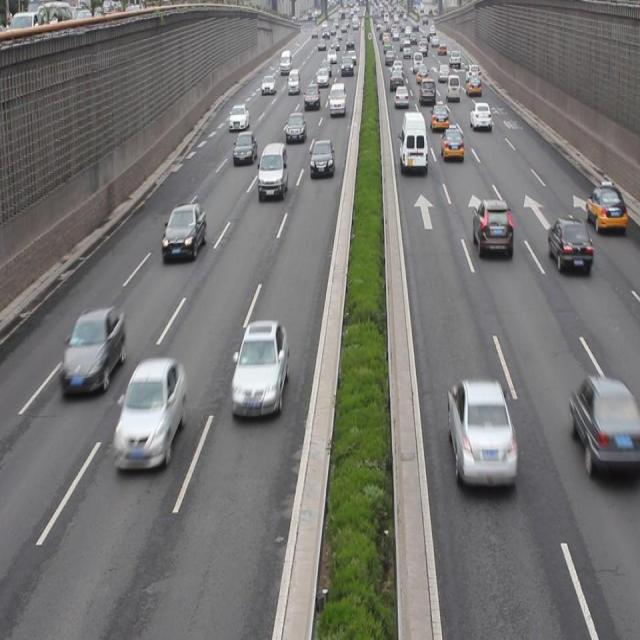car: (446, 379, 517, 497), (116, 357, 185, 469), (570, 372, 632, 479), (230, 322, 286, 418), (60, 310, 125, 392), (546, 216, 591, 276), (161, 207, 206, 264), (472, 201, 512, 259), (583, 183, 626, 231), (258, 145, 287, 199), (309, 140, 334, 179), (234, 132, 258, 167), (441, 125, 463, 162), (468, 101, 491, 131), (286, 112, 304, 144)
truck: (399, 111, 426, 172)
